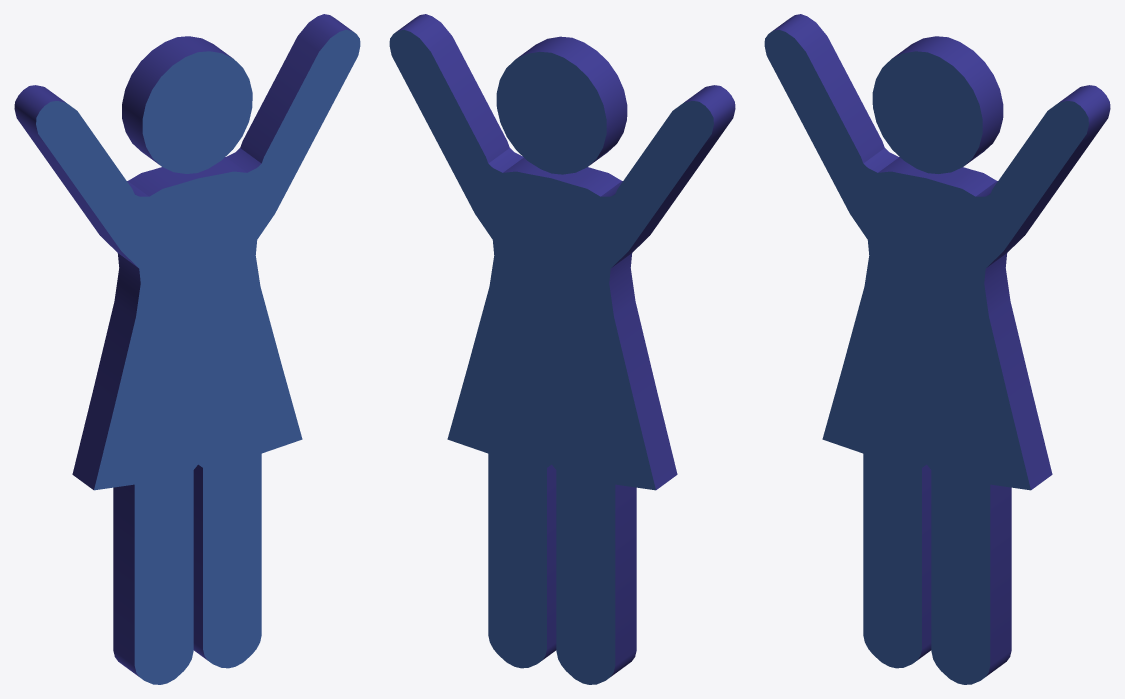
File: Female Dummy Up.fbx
3 views of the same model, side by side, from view 1: azimuth 30°, elevation 25°; view 2: azimuth 150°, elevation 25°; view 3: azimuth 330°, elevation 25° (orthographic).
Visible parts, largest first — view 1: Female Dummy Up; view 2: Female Dummy Up; view 3: Female Dummy Up.
Boxes of the visible parts, x1,y1,x2,y2 form: Female Dummy Up: (14,14,360,684); Female Dummy Up: (389,14,735,684); Female Dummy Up: (764,14,1110,684).
Size of the model in its own units: 108 by 199 by 12.44.
